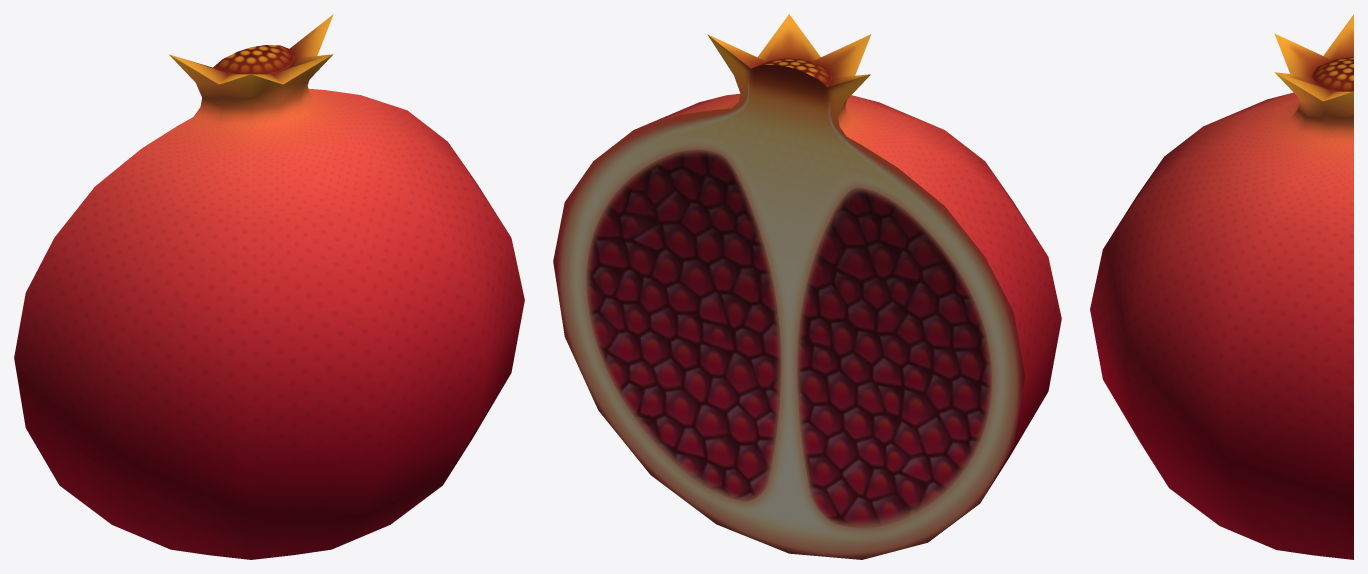
File: Pomegranate_Half_Back.fbx
The picture shows the model from 3 angles, left to right: view 1: azimuth 30°, elevation 25°; view 2: azimuth 150°, elevation 25°; view 3: azimuth 270°, elevation 25°; orthographic projection. The views are drawn at different scales.
Visible parts, largest first — view 1: Pomegranate_Half_Back; view 2: Pomegranate_Half_Back; view 3: Pomegranate_Half_Back.
Boxes of the visible parts, bbox=[...] form: Pomegranate_Half_Back: bbox=[14, 14, 524, 559]; Pomegranate_Half_Back: bbox=[553, 14, 1061, 559]; Pomegranate_Half_Back: bbox=[1090, 14, 1353, 559].
Size of the model in its own units: 1.5 by 1.52 by 0.75.
